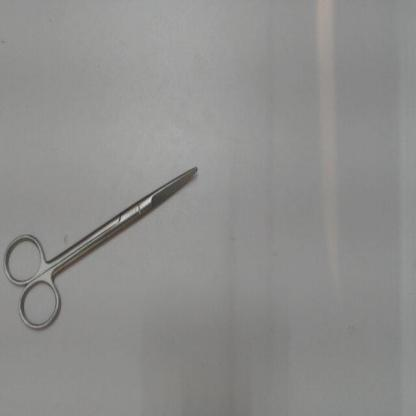Curved Mayo Scissors: (1, 159, 202, 337)
